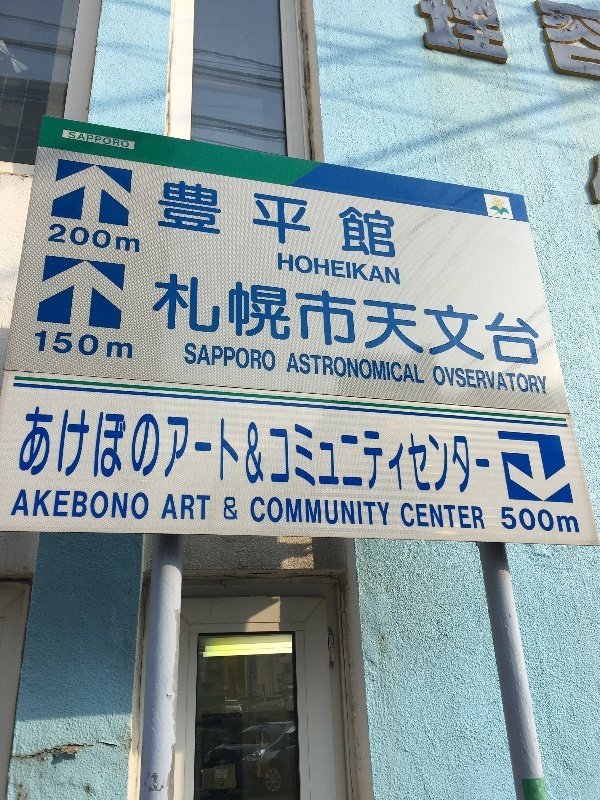text: (161, 271, 176, 369), (177, 271, 192, 369), (193, 271, 208, 369), (209, 271, 224, 369), (225, 271, 240, 369), (241, 271, 256, 369), (257, 271, 272, 369), (273, 271, 288, 369), (289, 271, 304, 369), (305, 271, 320, 369), (321, 271, 336, 369), (337, 271, 352, 369), (353, 271, 368, 369), (369, 271, 384, 369), (385, 271, 400, 369), (401, 271, 416, 369), (417, 271, 432, 369), (433, 271, 448, 369), (449, 271, 464, 369), (465, 271, 480, 369), (481, 271, 496, 369), (497, 271, 512, 369), (513, 271, 528, 369), (33, 406, 48, 498), (49, 406, 64, 498), (65, 406, 80, 498), (81, 406, 96, 498), (97, 406, 112, 498), (113, 406, 128, 498), (129, 406, 144, 498), (145, 406, 160, 498), (161, 406, 176, 498), (177, 406, 192, 498), (193, 406, 208, 498), (209, 406, 224, 498), (225, 406, 240, 498), (241, 406, 256, 498), (257, 406, 272, 498), (273, 406, 288, 498), (289, 406, 304, 498), (305, 406, 320, 498), (321, 406, 336, 498), (337, 406, 352, 498), (353, 406, 368, 498), (369, 406, 384, 498), (385, 406, 400, 498), (401, 406, 416, 498), (417, 406, 432, 498), (433, 406, 448, 498), (449, 406, 464, 498), (465, 406, 480, 498), (529, 271, 543, 369), (161, 178, 176, 260), (177, 178, 192, 260), (193, 178, 208, 260), (209, 178, 224, 260), (225, 178, 240, 260), (241, 178, 256, 260), (257, 178, 272, 260), (273, 178, 288, 260), (289, 178, 304, 260), (305, 178, 320, 260), (321, 178, 336, 260), (337, 178, 352, 260), (353, 178, 368, 260), (369, 178, 384, 260), (417, 1, 432, 82), (433, 1, 448, 82), (449, 1, 464, 82), (465, 1, 480, 82), (481, 1, 496, 82), (497, 1, 512, 82), (513, 1, 528, 82), (529, 1, 544, 82), (545, 1, 560, 82), (561, 1, 576, 82), (577, 1, 592, 82), (481, 406, 493, 498), (385, 178, 397, 260), (385, 253, 401, 285), (593, 1, 599, 82), (289, 253, 304, 285), (305, 253, 320, 285), (321, 253, 336, 285), (337, 253, 352, 285), (353, 253, 368, 285), (369, 253, 384, 285), (305, 353, 320, 384), (321, 353, 336, 384), (337, 353, 352, 384), (353, 353, 368, 384), (369, 353, 384, 384), (385, 353, 400, 384), (401, 353, 416, 384), (33, 489, 48, 520), (49, 489, 64, 520), (65, 489, 80, 520), (81, 489, 96, 520), (97, 489, 112, 520), (113, 489, 128, 520), (129, 489, 144, 520), (27, 406, 32, 498), (65, 223, 80, 253), (81, 223, 96, 253), (97, 223, 112, 253), (113, 223, 128, 253), (49, 330, 64, 359), (65, 330, 80, 359), (81, 330, 96, 359), (97, 330, 112, 359), (113, 330, 128, 359), (193, 343, 208, 372), (209, 343, 224, 372), (225, 343, 240, 372), (241, 343, 256, 372), (257, 343, 272, 372), (433, 366, 448, 395), (449, 366, 464, 395), (465, 366, 480, 395), (481, 366, 496, 395), (497, 366, 512, 395), (513, 366, 528, 395), (529, 366, 544, 395), (257, 497, 272, 526), (273, 497, 288, 526), (289, 497, 304, 526), (305, 497, 320, 526), (321, 497, 336, 526), (337, 497, 352, 526), (353, 497, 368, 526), (369, 497, 384, 526), (401, 503, 416, 530), (417, 503, 432, 530), (433, 503, 448, 530), (449, 503, 464, 530), (465, 503, 480, 530), (513, 507, 528, 534), (529, 507, 544, 534), (545, 507, 560, 534), (561, 507, 576, 534), (291, 353, 304, 384), (156, 271, 160, 369), (51, 223, 64, 253), (177, 494, 192, 520), (193, 494, 208, 520), (35, 330, 48, 359), (225, 497, 240, 520), (21, 489, 32, 520), (129, 223, 140, 253), (278, 253, 288, 285), (417, 353, 426, 384), (113, 131, 129, 148), (502, 507, 512, 534), (81, 131, 96, 148), (97, 131, 112, 148), (168, 494, 176, 520), (186, 343, 192, 372), (70, 131, 80, 148), (145, 489, 150, 520), (129, 330, 134, 359), (251, 497, 256, 526), (385, 497, 390, 526), (481, 503, 485, 530), (273, 343, 276, 372), (577, 507, 580, 534), (545, 366, 547, 395), (209, 494, 211, 520)
